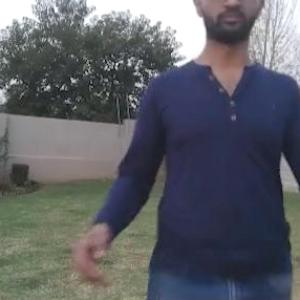follow: (133, 0, 299, 299)
